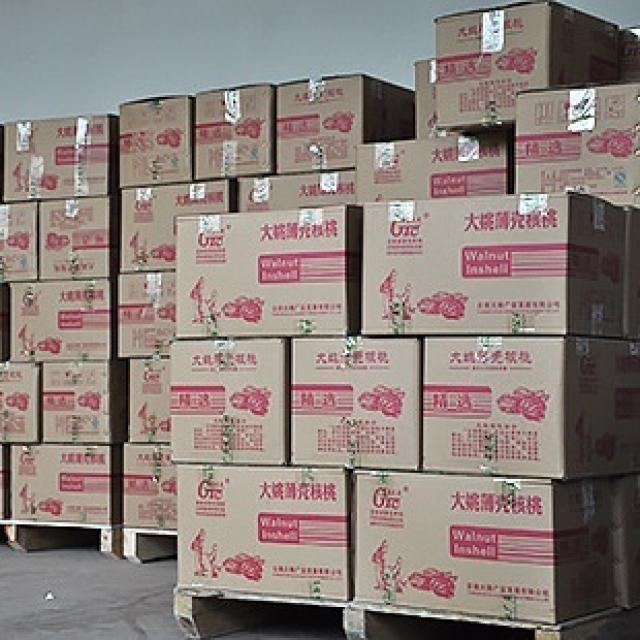box: (355, 471, 617, 626), (361, 192, 626, 337), (423, 337, 640, 477), (434, 0, 621, 128), (178, 206, 357, 339), (178, 465, 349, 601), (291, 337, 419, 469), (169, 339, 291, 467), (516, 81, 640, 206), (275, 74, 415, 173), (355, 130, 508, 204), (122, 178, 231, 273), (4, 114, 118, 202), (10, 279, 111, 363), (12, 444, 111, 526), (194, 85, 277, 182), (118, 93, 194, 188), (39, 198, 111, 279), (43, 361, 111, 442), (118, 270, 175, 357), (124, 442, 178, 531), (128, 357, 171, 442), (611, 475, 638, 607), (0, 363, 39, 444), (270, 171, 353, 209), (0, 202, 37, 283), (413, 58, 438, 136), (237, 178, 273, 211)
